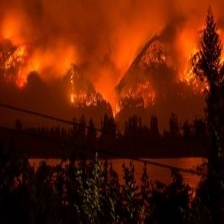fire: (181, 28, 224, 95), (65, 69, 101, 105), (1, 47, 27, 83), (125, 79, 154, 105)
smoke: (19, 4, 193, 57)
